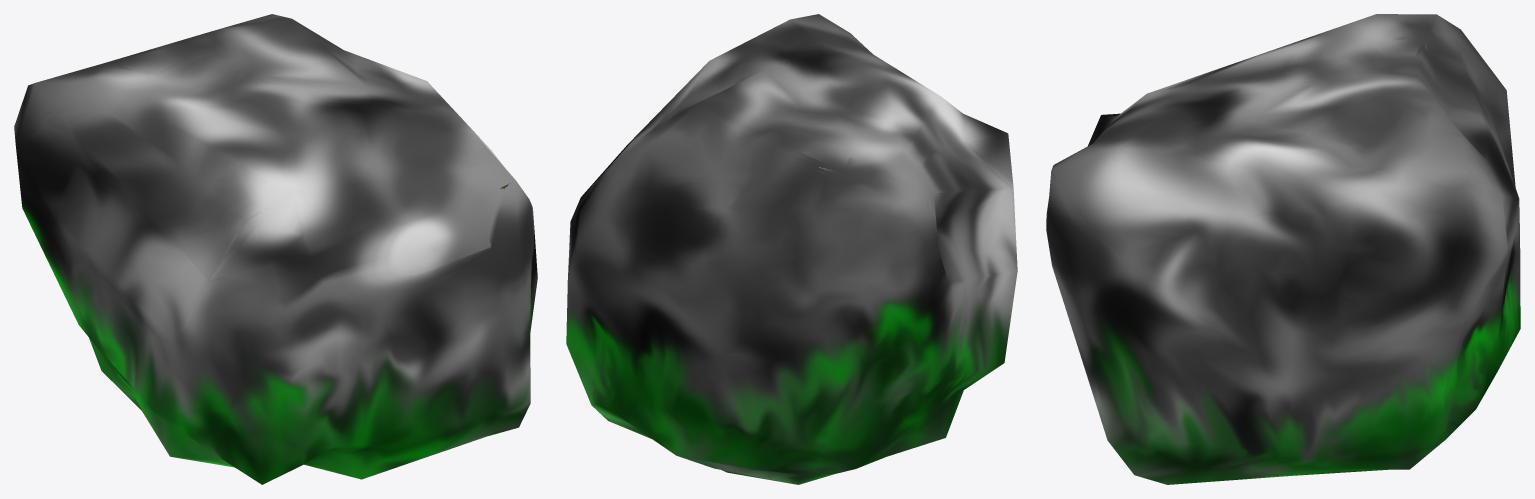
The model's file is StonesSmooth6.fbx.
The picture shows the model from 3 angles, left to right: view 1: azimuth 30°, elevation 25°; view 2: azimuth 150°, elevation 25°; view 3: azimuth 270°, elevation 25°; orthographic projection. The views are drawn at different scales.
Visible parts, largest first — view 1: Stone6_Smooth; view 2: Stone6_Smooth; view 3: Stone6_Smooth.
Part boxes in pixels (x1,y1,x2,y2): Stone6_Smooth: (14,14,537,484); Stone6_Smooth: (566,14,1017,484); Stone6_Smooth: (1046,14,1520,484).
Bounding box in the file's own units: 173 × 150 × 180.
Materials: 1 (1 with a texture image).
